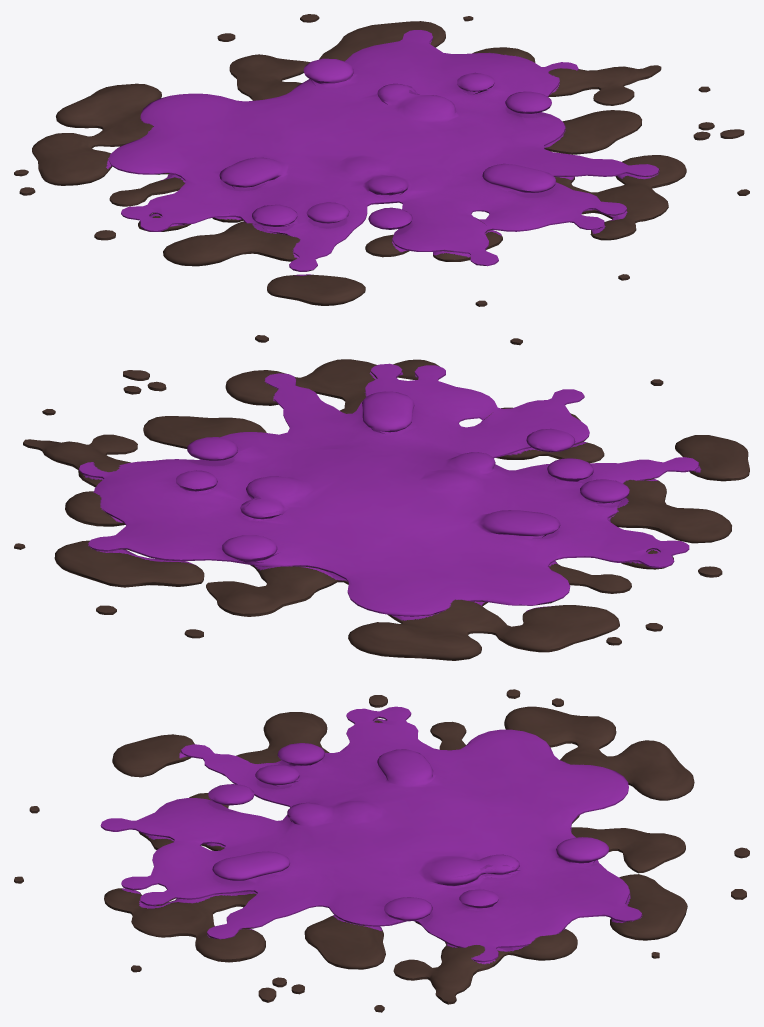
File: SK_GumPuddle.fbx
3 renders of one model, top to bottom at view 1: azimuth 30°, elevation 25°; view 2: azimuth 150°, elevation 25°; view 3: azimuth 270°, elevation 25°, orthographic. The views are drawn at different scales.
Visible parts, largest first — view 1: SK_GumPuddle; view 2: SK_GumPuddle; view 3: SK_GumPuddle.
Part boxes in pixels (x1=…): SK_GumPuddle: x1=14, y1=14, x2=749, y2=306; SK_GumPuddle: x1=14, y1=335, x2=749, y2=660; SK_GumPuddle: x1=14, y1=689, x2=749, y2=1012.
Size of the model in its own units: 294 by 13.18 by 286.
